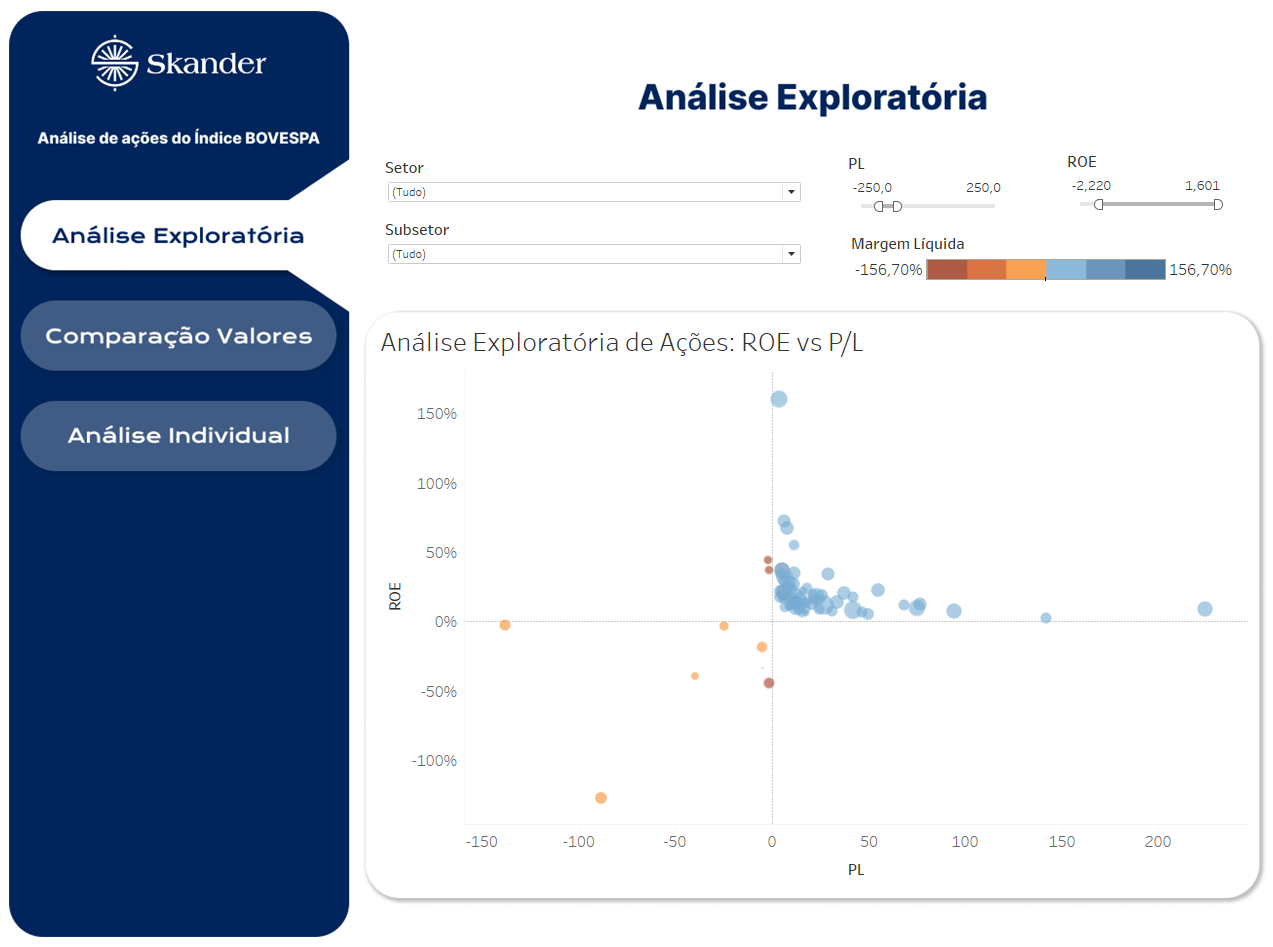

This screenshot's page, from the dashboard's own definition file:
{"tool":"tableau","page":{"name":"Análise Exploratória","canvas":[1300,950],"ordinal":0},"visuals":[{"type":"image","param":"C:/Users/caiop/DIO/stock-analysis-bovespa/assets/layout/Análise Exploratória.png","box":[8,8,1284,934]},{"type":"filter","title":"Análise Exploratória de Ações: ROE vs P/L","param":"[federated.1ubkfle0kqqt5a1140fbm0lzun5t].[none:ROE:qk]","box":[1074,152,160,65]},{"type":"filter","title":"Análise Exploratória de Ações: ROE vs P/L","param":"[federated.1ubkfle0kqqt5a1140fbm0lzun5t].[none:PL:qk]","box":[855,154,160,65]},{"type":"filter","title":"Análise Exploratória de Ações: ROE vs P/L","param":"[federated.1ubkfle0kqqt5a1140fbm0lzun5t].[none:Setor:nk]","box":[392,158,419,64]},{"type":"filter","title":"Análise Exploratória de Ações: ROE vs P/L","param":"[federated.1ubkfle0kqqt5a1140fbm0lzun5t].[none:Subsetor:nk]","box":[392,220,419,60]},{"type":"legend","title":"Análise Exploratória de Ações: ROE vs P/L","param":"[federated.1ubkfle0kqqt5a1140fbm0lzun5t].[sum:Marg_Liquida:qk]","box":[858,234,386,88]},{"type":"dashboard-object","box":[31,303,307,66]},{"type":"worksheet","title":"Análise Exploratória de Ações: ROE vs P/L","mark":"Automatic","rows":["ROE"],"cols":["PL"],"box":[384,322,871,566]},{"type":"dashboard-object","box":[33,402,304,68]}]}

Visuals, with their boxes in screenshot pixels (x1, y1, x2, y2), scaled from the page's 1300x950 canvas onto the 1273x947 screenshot:
image: [left=8, top=8, right=1265, bottom=939]
"Análise Exploratória de Ações: ROE vs P/L" filter: [left=1052, top=152, right=1208, bottom=216]
"Análise Exploratória de Ações: ROE vs P/L" filter: [left=837, top=154, right=994, bottom=218]
"Análise Exploratória de Ações: ROE vs P/L" filter: [left=384, top=158, right=794, bottom=221]
"Análise Exploratória de Ações: ROE vs P/L" filter: [left=384, top=219, right=794, bottom=279]
"Análise Exploratória de Ações: ROE vs P/L" legend: [left=840, top=233, right=1218, bottom=321]
dashboard-object: [left=30, top=302, right=331, bottom=368]
"Análise Exploratória de Ações: ROE vs P/L" worksheet: [left=376, top=321, right=1229, bottom=885]
dashboard-object: [left=32, top=401, right=330, bottom=469]
